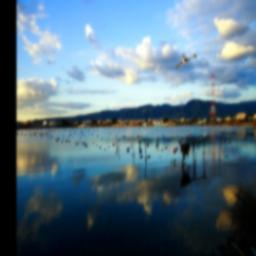Sparrow: (176, 52, 198, 71)
